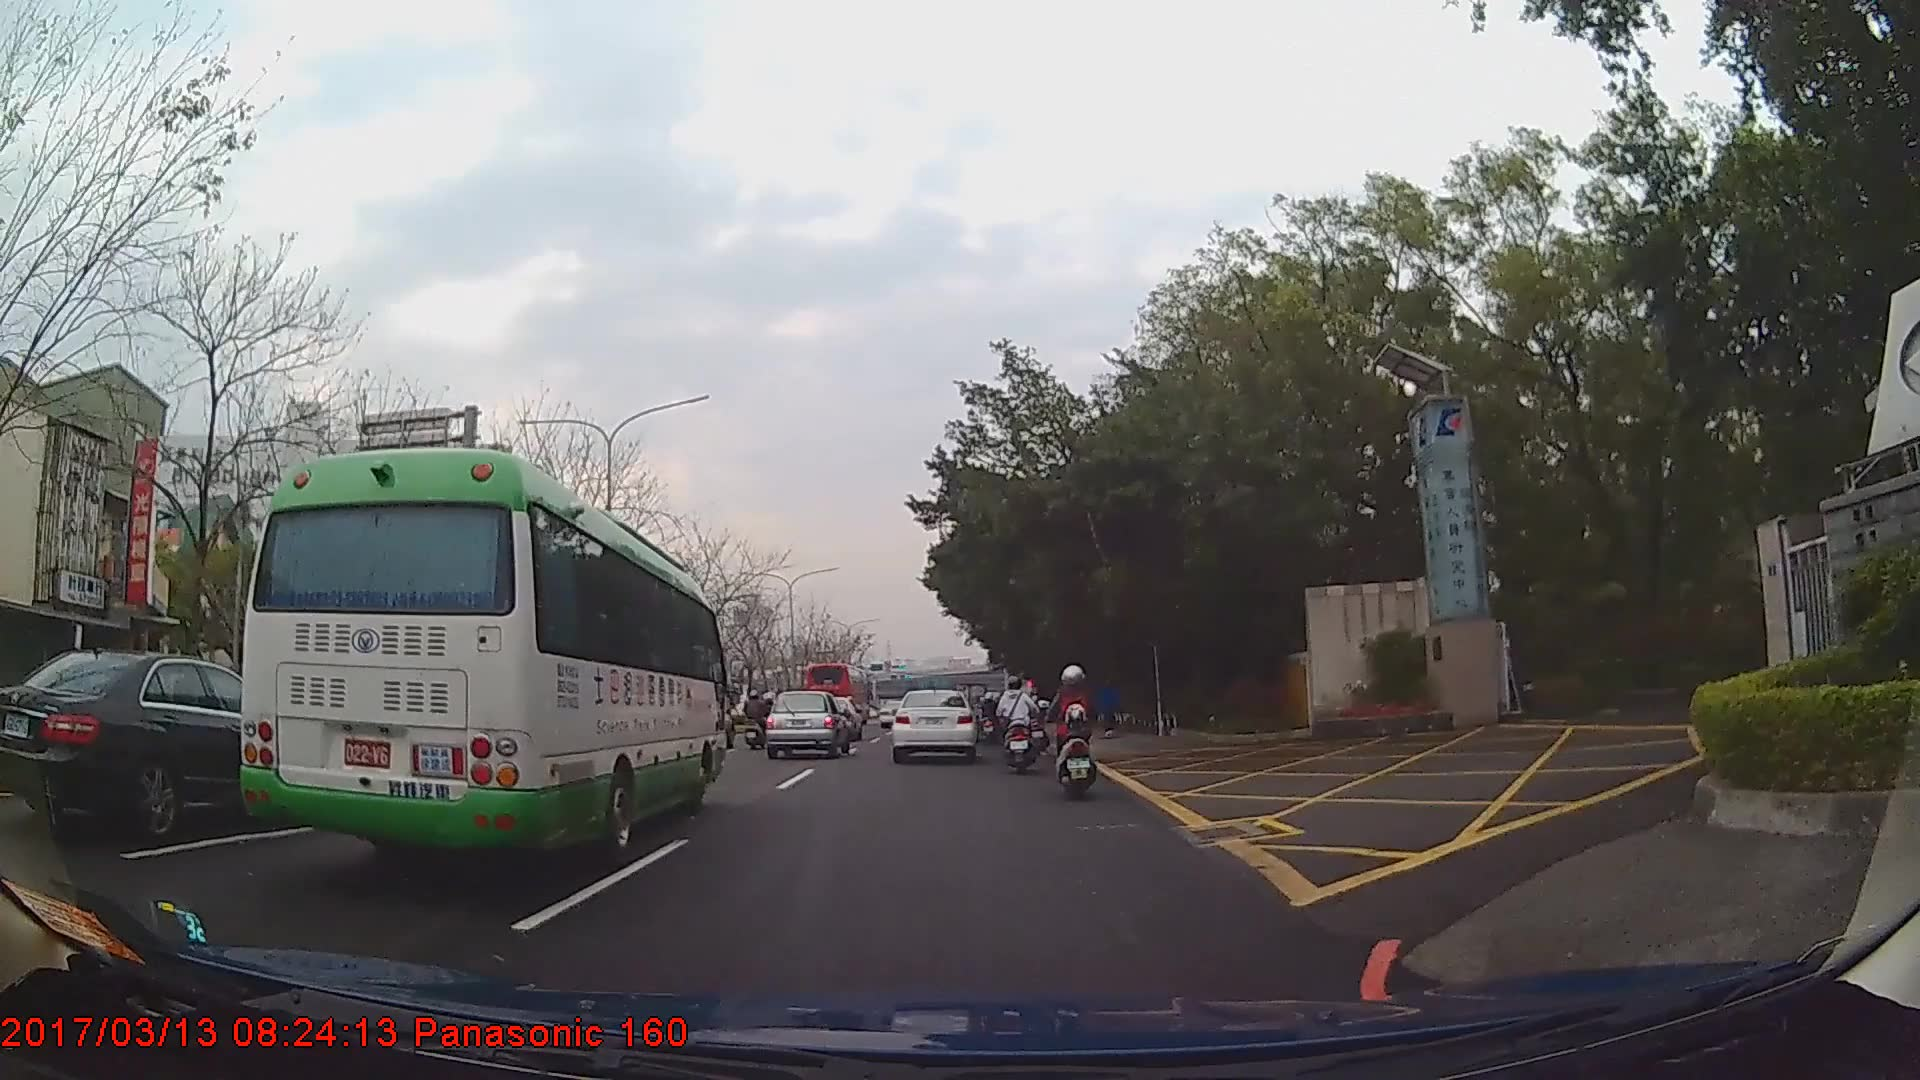pedestrian: (1094, 675, 1119, 739)
rider: (1050, 664, 1097, 804), (994, 679, 1039, 777), (1025, 693, 1048, 755), (746, 688, 771, 743)
vehicle: (237, 446, 725, 860), (2, 647, 338, 841), (888, 686, 977, 762), (762, 687, 851, 758), (801, 662, 869, 728)
